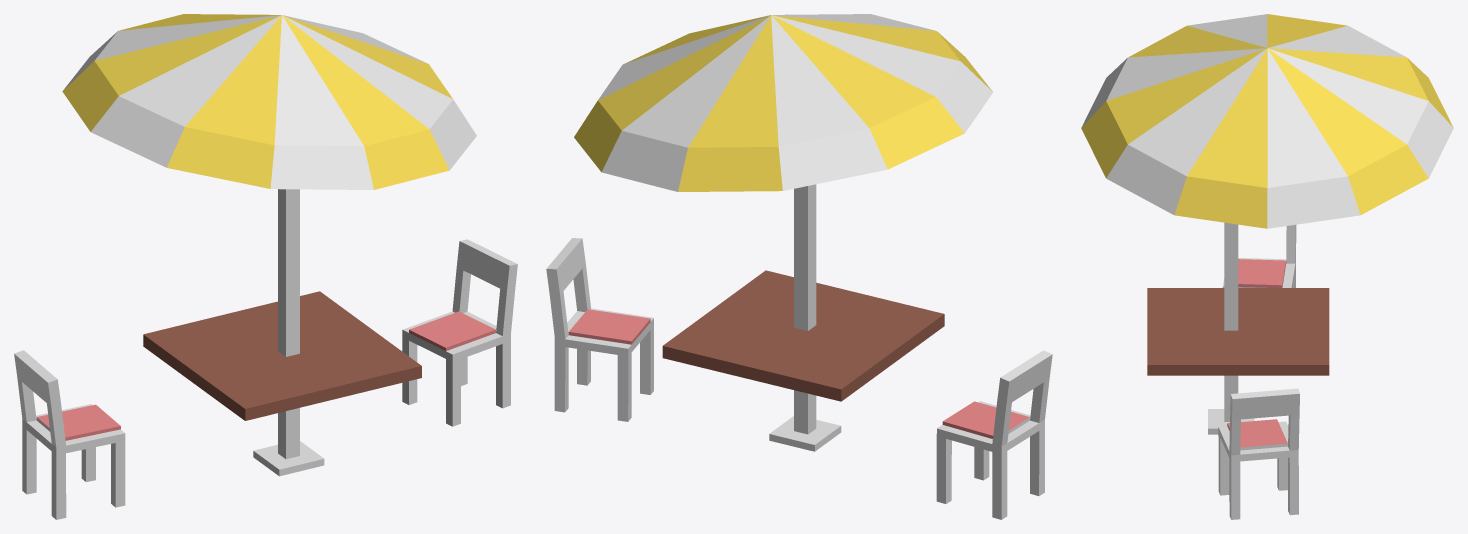
Rendered from zhuangshi_22.FBX.
The picture shows the model from 3 angles, left to right: view 1: azimuth 30°, elevation 25°; view 2: azimuth 150°, elevation 25°; view 3: azimuth 270°, elevation 25°; orthographic projection. The views are drawn at different scales.
Visible parts, largest first — view 1: zhuangshi_22; view 2: zhuangshi_22; view 3: zhuangshi_22.
Part boxes in pixels (x1=…): zhuangshi_22: x1=14, y1=14, x2=517, y2=519; zhuangshi_22: x1=546, y1=14, x2=1052, y2=519; zhuangshi_22: x1=1081, y1=14, x2=1453, y2=519.
Size of the model in its own units: 1219 by 1056 by 933.
